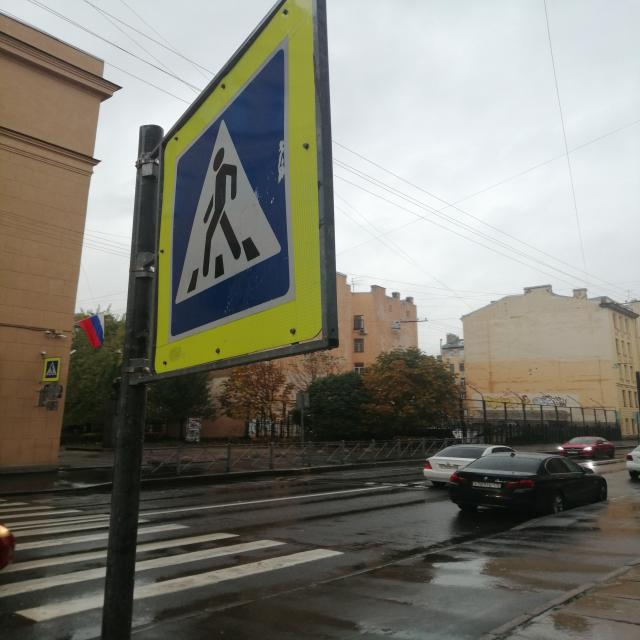road sign: (156, 2, 319, 375)
